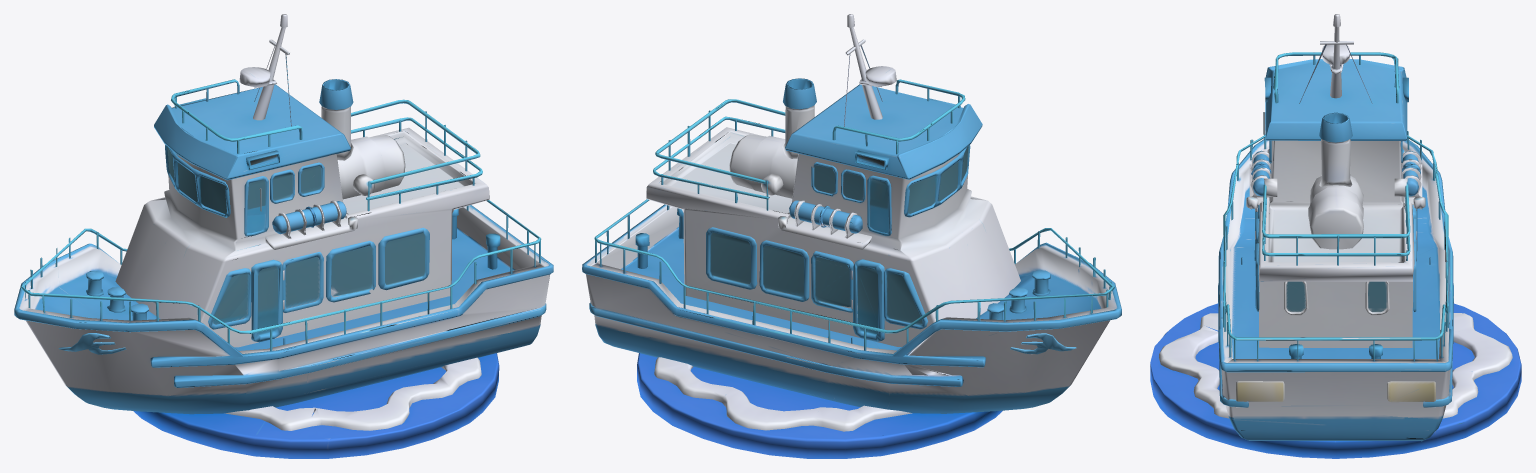
The model's file is ferry.glb.
3 views of the same model, side by side, from view 1: azimuth 30°, elevation 25°; view 2: azimuth 150°, elevation 25°; view 3: azimuth 270°, elevation 25° (orthographic). The views are drawn at different scales.
Visible parts, largest first — view 1: geometry_0; view 2: geometry_0; view 3: geometry_0.
Boxes of the visible parts, x1,y1,x2,y2 form: geometry_0: (14, 14, 553, 458); geometry_0: (582, 14, 1121, 458); geometry_0: (1150, 14, 1521, 458).
Bounding box in the file's own units: 0.9375 × 0.687 × 0.6489.
1 material, 1 textured.
